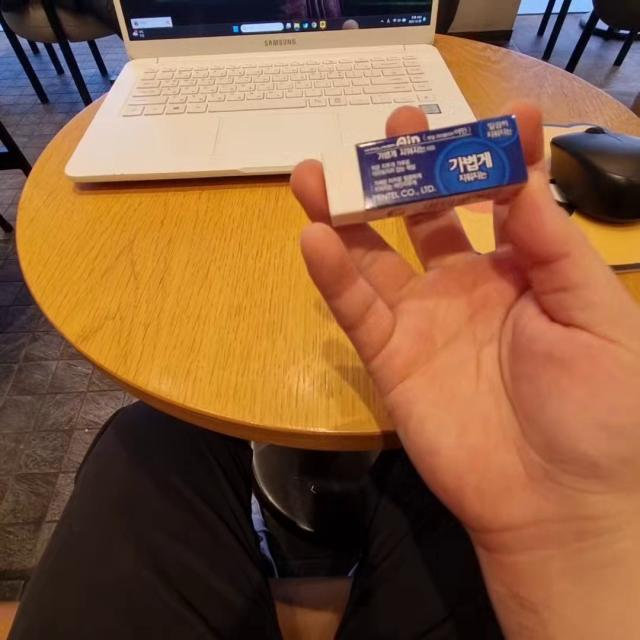eraser: (314, 116, 521, 213)
grab_eraser: (287, 98, 640, 569)
mouse: (547, 104, 640, 248)
